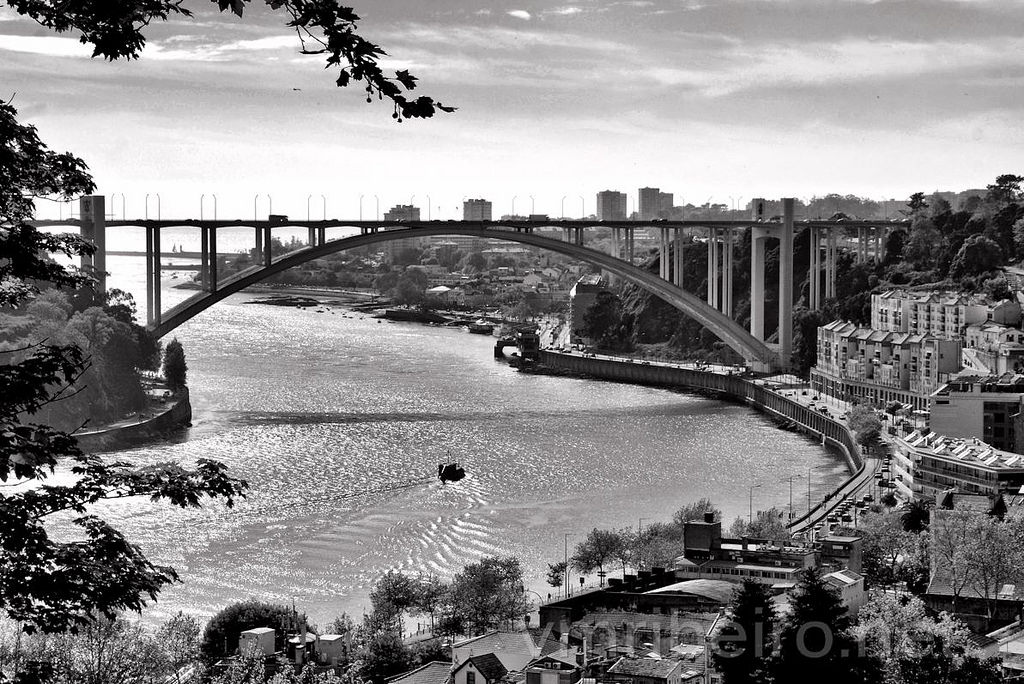arrabida: (0, 193, 911, 375)
